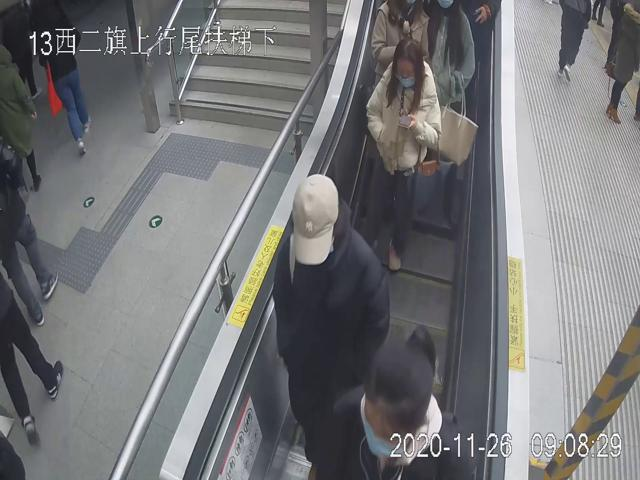person: (272, 172, 392, 444), (363, 36, 441, 277)
